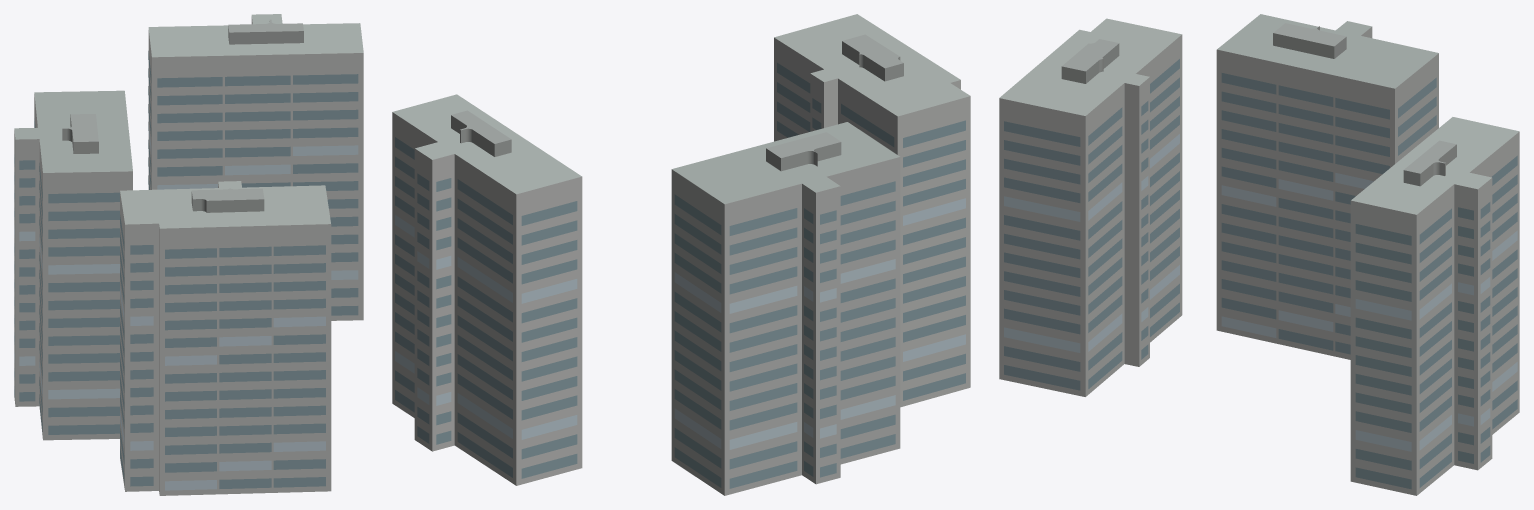
The model's file is apt-a15703301.glb.
3 views of the same model, side by side, from view 1: azimuth 30°, elevation 25°; view 2: azimuth 150°, elevation 25°; view 3: azimuth 270°, elevation 25° (orthographic). The views are drawn at different scales.
Visible parts, largest first — view 1: apt-a15703301; view 2: apt-a15703301; view 3: apt-a15703301.
Part boxes in pixels (x1,y1,x2,y2): apt-a15703301: [14, 14, 363, 495]; apt-a15703301: [392, 14, 970, 495]; apt-a15703301: [999, 14, 1519, 495].
Size of the model in its own units: 70.14 by 47.81 by 76.8.
